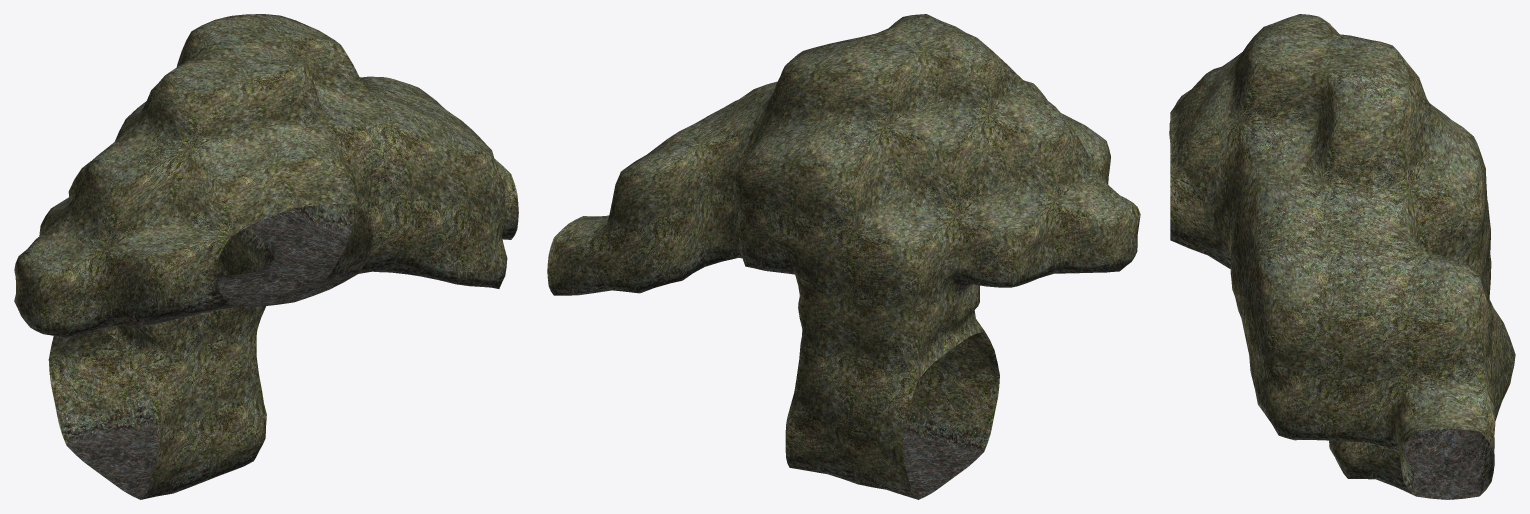
The model's file is thm_all_cave_s03_damprock_mirror_r22_r22.fbx.
3 renders of one model, left to right at view 1: azimuth 30°, elevation 25°; view 2: azimuth 150°, elevation 25°; view 3: azimuth 270°, elevation 25°, orthographic. The views are drawn at different scales.
Parts seen in each view (by area): view 1: mesh_node; view 2: mesh_node; view 3: mesh_node.
Part boxes in pixels (x1=…): mesh_node: x1=14, y1=14, x2=518, y2=499; mesh_node: x1=547, y1=14, x2=1140, y2=499; mesh_node: x1=1169, y1=14, x2=1515, y2=499.
Size of the model in its own units: 63.36 by 48.59 by 34.97.
